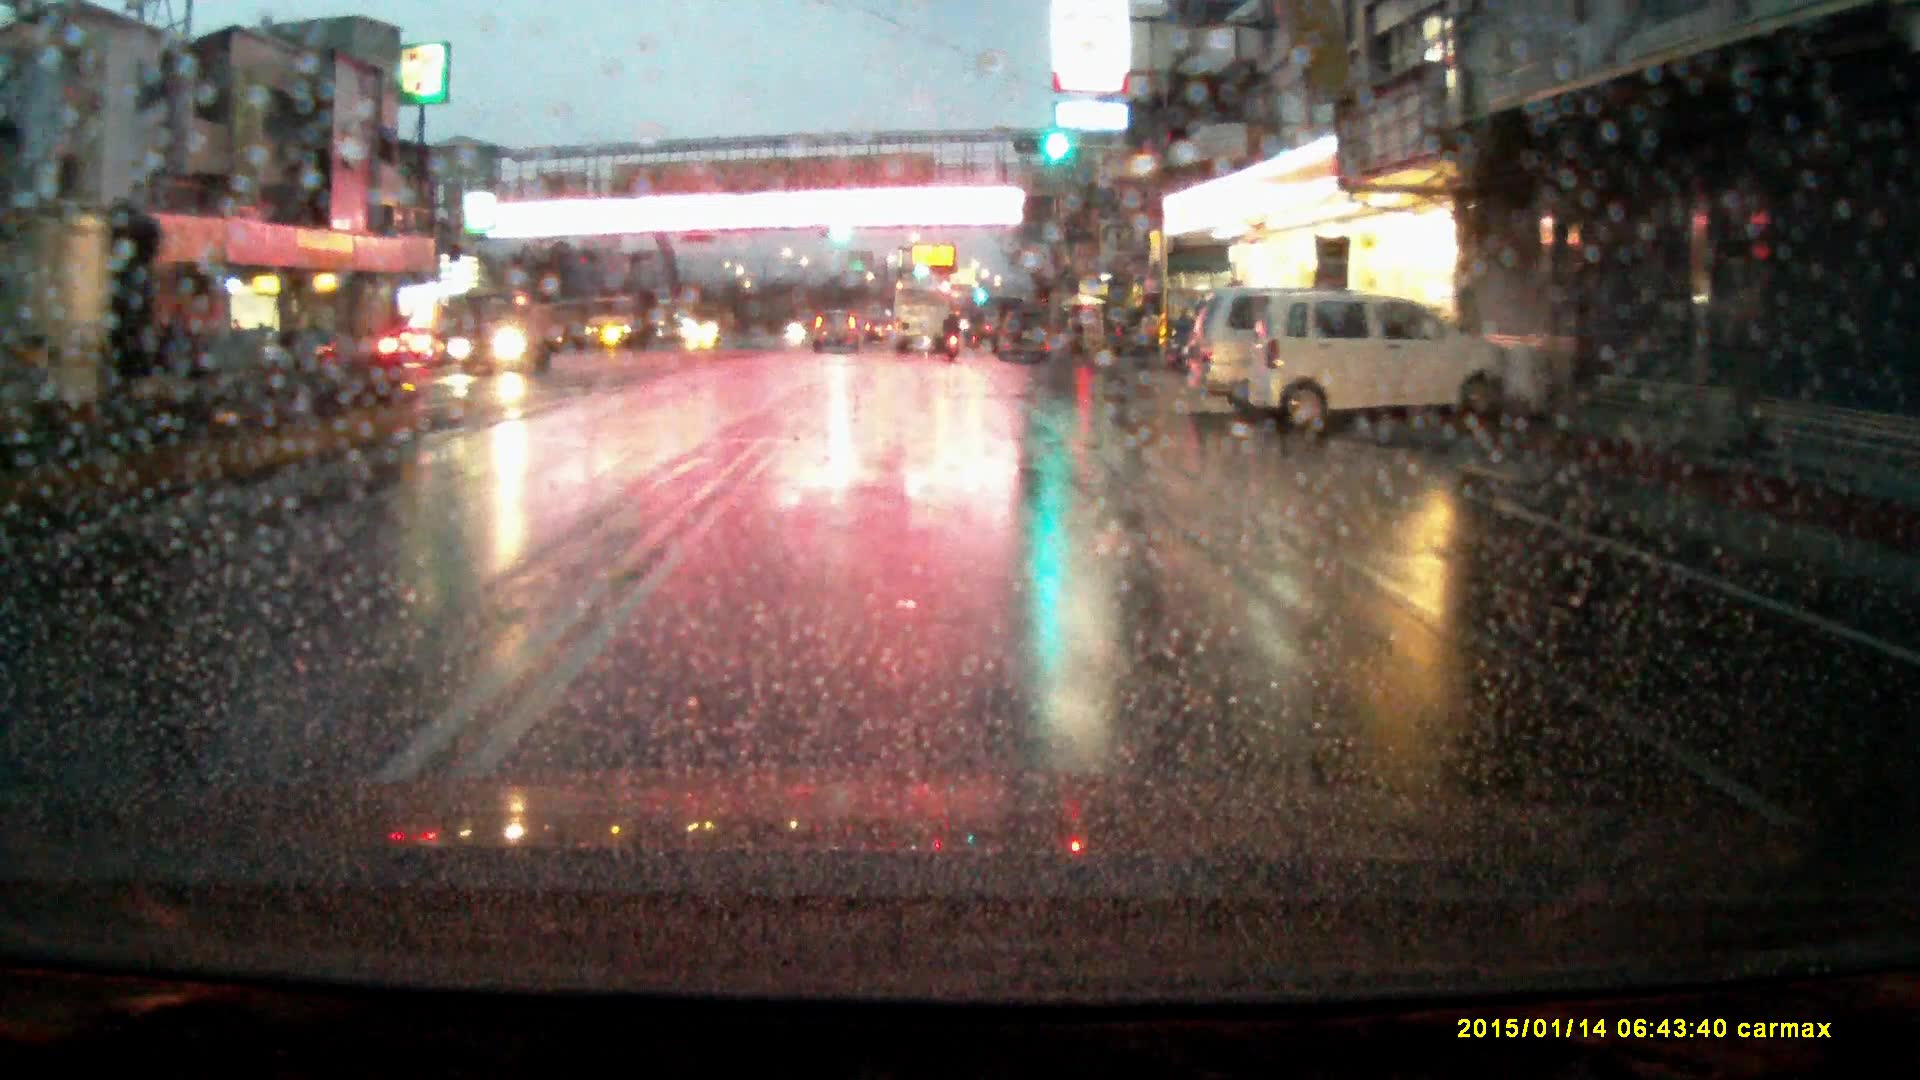rider: (943, 311, 964, 363)
vehicle: (1249, 293, 1545, 434), (1188, 287, 1359, 426), (448, 296, 554, 375), (254, 322, 362, 376), (895, 279, 952, 351), (583, 293, 653, 346), (995, 306, 1053, 363), (377, 326, 450, 369), (683, 298, 744, 343), (1109, 306, 1161, 359), (814, 304, 863, 352)
